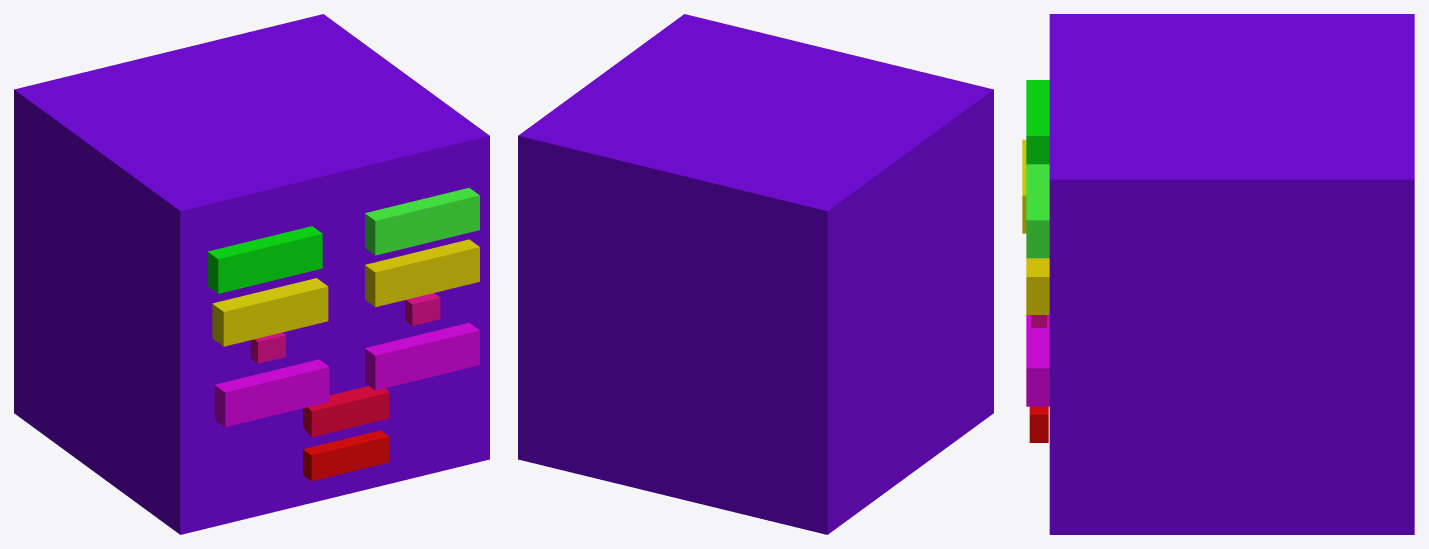
File: hommna01.glb
3 renders of one model, left to right at view 1: azimuth 30°, elevation 25°; view 2: azimuth 150°, elevation 25°; view 3: azimuth 270°, elevation 25°, orthographic. The views are drawn at different scales.
Parts seen in each view (by area): view 1: Cube; view 2: Cube; view 3: Cube.
Boxes of the visible parts, left/top/right/bottom form: Cube: left=14, top=14, right=489, bottom=534; Cube: left=518, top=14, right=993, bottom=534; Cube: left=1022, top=14, right=1414, bottom=534.
Bounding box in the file's own units: 0.5 × 0.5 × 0.5.
